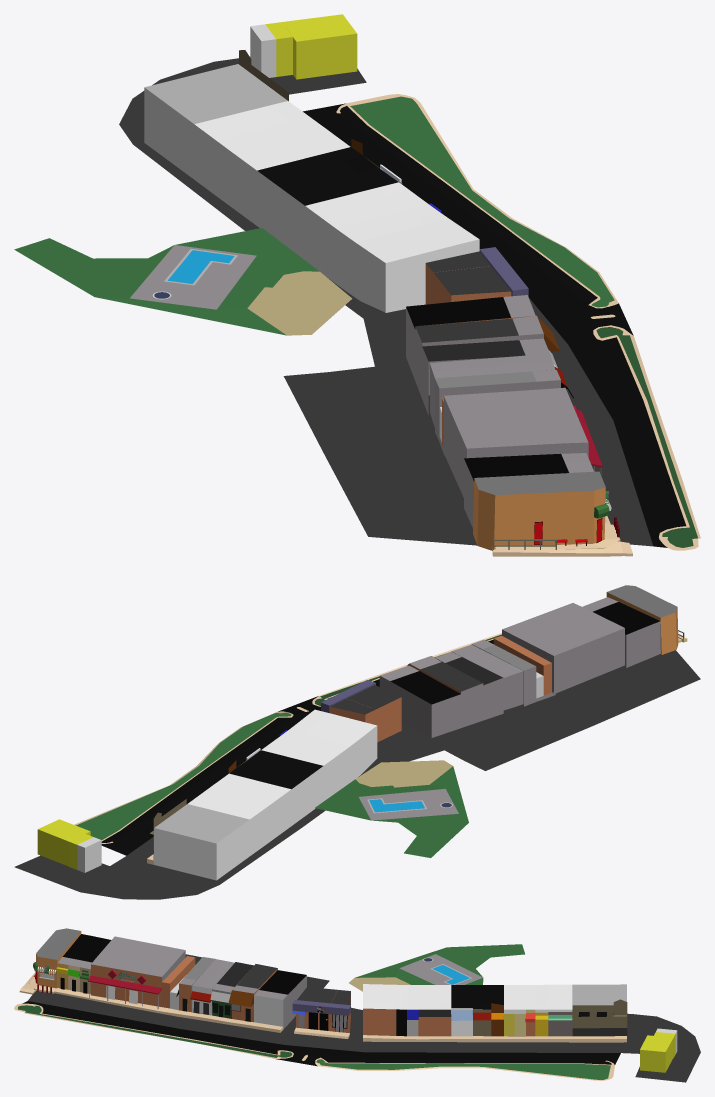
Rendered from shops27.glb.
3 renders of one model, top to bottom at view 1: azimuth 30°, elevation 25°; view 2: azimuth 150°, elevation 25°; view 3: azimuth 270°, elevation 25°, orthographic. The views are drawn at different scales.
Parts seen in each view (by area): view 1: Circle.001; view 2: Circle.001; view 3: Circle.001.
Boxes of the visible parts, bbox=[...] form: Circle.001: bbox=[14, 14, 700, 556]; Circle.001: bbox=[14, 585, 700, 899]; Circle.001: bbox=[14, 928, 700, 1082].
Size of the model in its own units: 0.2559 by 0.0377 by 0.5537.
Materials: 60 (4 with a texture image).
